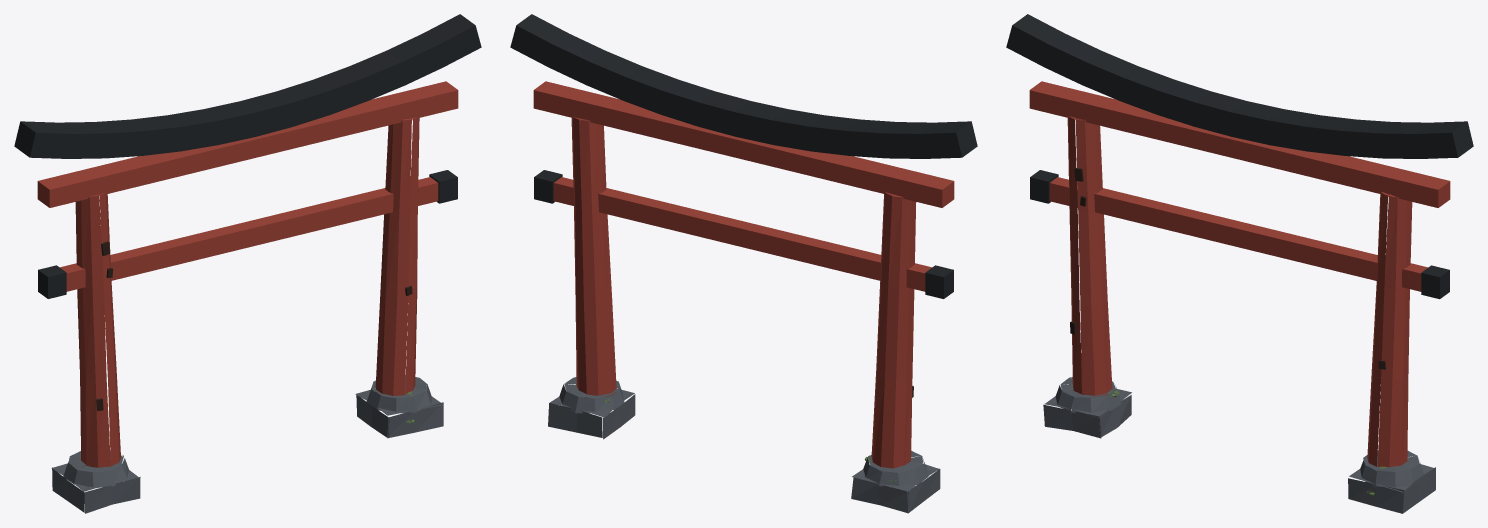
File: 2-05_torii_mid.glb
3 renders of one model, left to right at view 1: azimuth 30°, elevation 25°; view 2: azimuth 150°, elevation 25°; view 3: azimuth 330°, elevation 25°, orthographic.
Visible parts, largest first — view 1: 鳥居（中）; view 2: 鳥居（中）; view 3: 鳥居（中）.
Boxes of the visible parts, box(x1,y1,x2,y2) form: 鳥居（中）: box(14, 14, 481, 513); 鳥居（中）: box(510, 14, 977, 513); 鳥居（中）: box(1006, 14, 1473, 513).
Size of the model in its own units: 6.19 by 5.04 by 0.8182.
